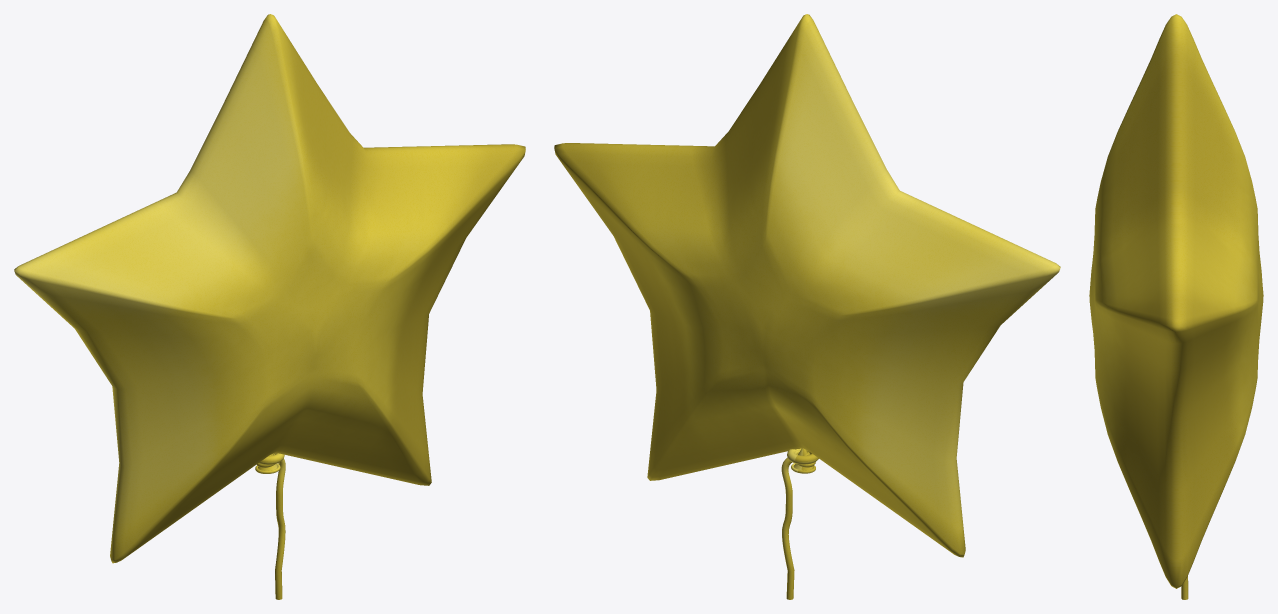
Rendered from Star_Balloon.FBX.
3 renders of one model, left to right at view 1: azimuth 30°, elevation 25°; view 2: azimuth 150°, elevation 25°; view 3: azimuth 270°, elevation 25°, orthographic. The views are drawn at different scales.
Parts seen in each view (by area): view 1: GoldStar; view 2: GoldStar; view 3: GoldStar.
Boxes of the visible parts, left/top/right/bottom form: GoldStar: left=14, top=14, right=525, bottom=599; GoldStar: left=554, top=14, right=1060, bottom=599; GoldStar: left=1089, top=14, right=1263, bottom=599.
Bounding box in the file's own units: 36.68 × 40.51 × 11.04.
